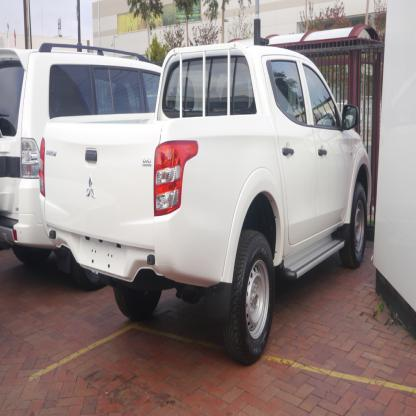Truck: (40, 44, 372, 363)
